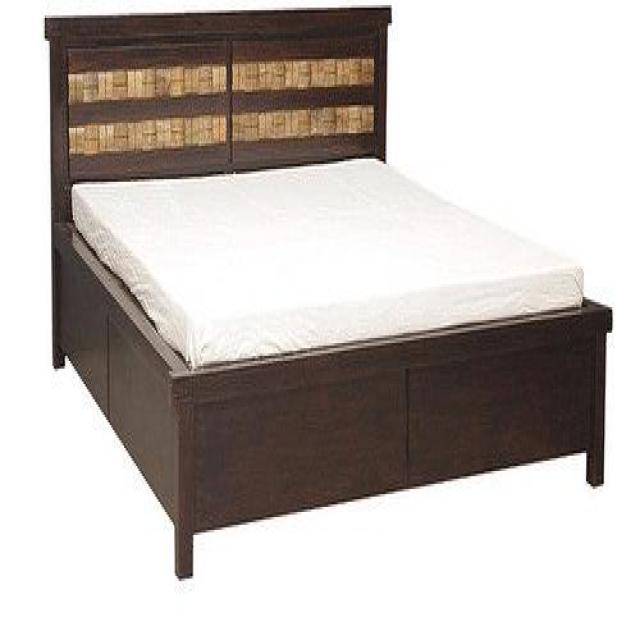bed: (44, 2, 613, 578)
